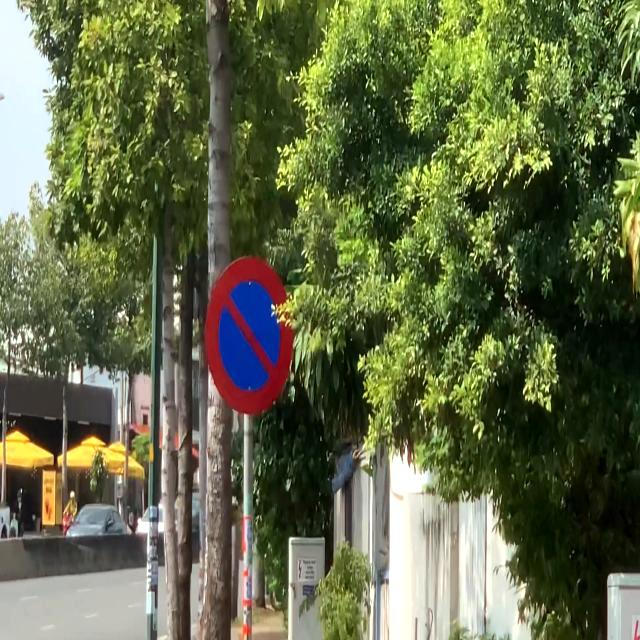Cam do xe: (202, 258, 294, 420)
